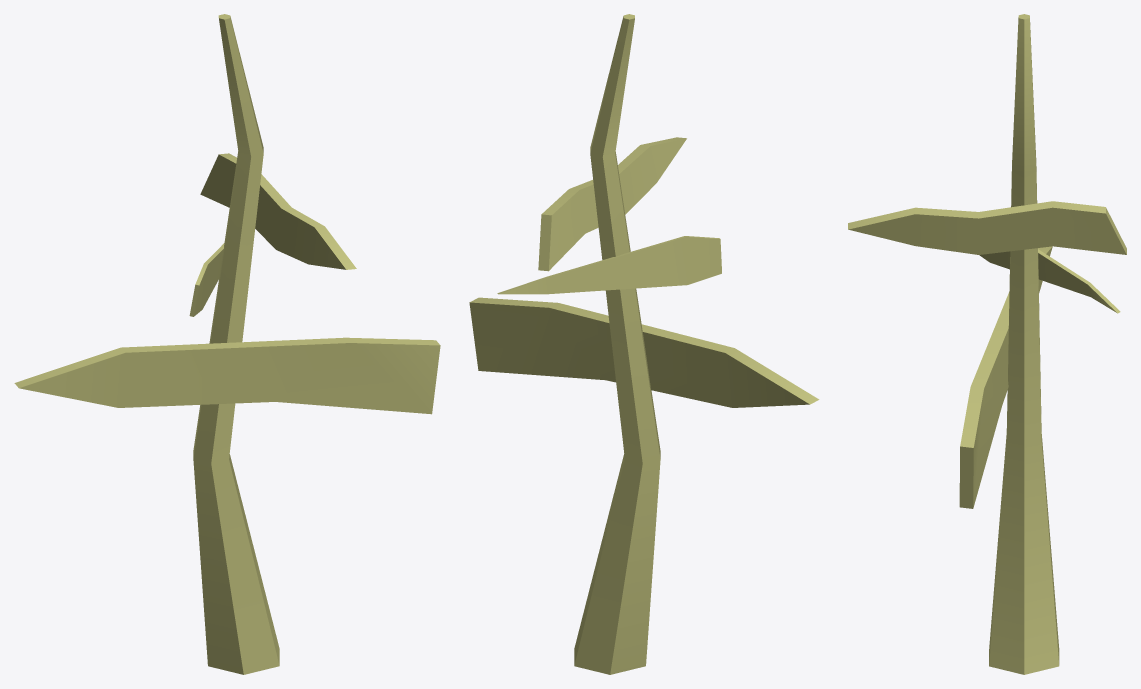
The model's file is Pointer.fbx.
3 views of the same model, side by side, from view 1: azimuth 30°, elevation 25°; view 2: azimuth 150°, elevation 25°; view 3: azimuth 270°, elevation 25° (orthographic). The views are drawn at different scales.
Parts seen in each view (by area): view 1: Pointer; view 2: Pointer; view 3: Pointer.
Part boxes in pixels (x1,y1,x2,y2): Pointer: (14,14,440,674); Pointer: (469,14,819,674); Pointer: (848,14,1126,674).
Size of the model in its own units: 66.68 by 107 by 42.85.
